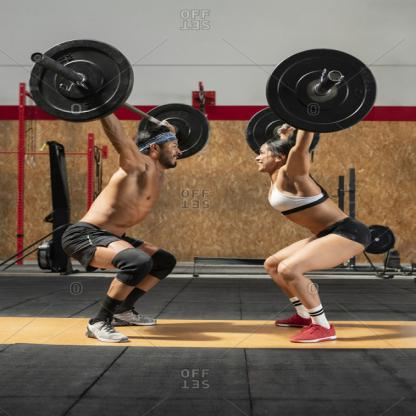Barbell: (259, 42, 389, 137), (21, 35, 140, 124)
